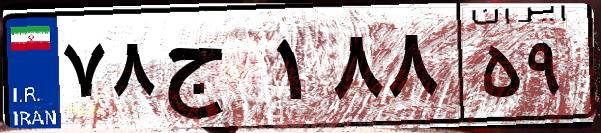1: (270, 28, 330, 110)
5: (475, 38, 525, 113)
7: (57, 26, 110, 100)
8: (385, 28, 445, 110), (330, 28, 385, 110), (110, 28, 158, 98)
9: (525, 38, 570, 115)
ج: (158, 20, 270, 120)
